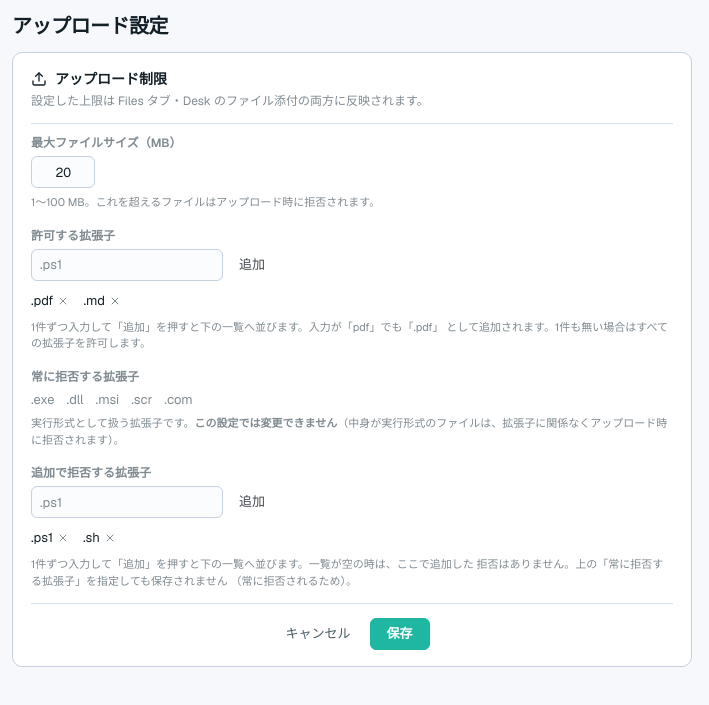
Test: フォーム操作（v2-203: 1件ずつの追加・解除） › 重複は追加されず、理由を画面に出す（黙って消えない）
The width and height of the screenshot is (709, 705).
Type ".pdf" into the field labelled "許可する拡張子" at (127, 264), box [31,248,223,280]
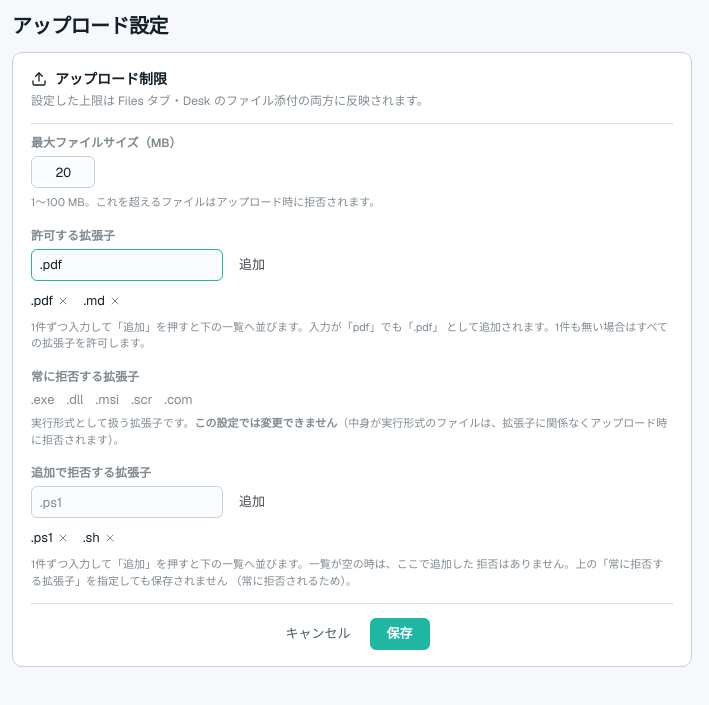
Click the button with aria-label "許可する拡張子を追加" at (252, 264), box [229,248,275,280]
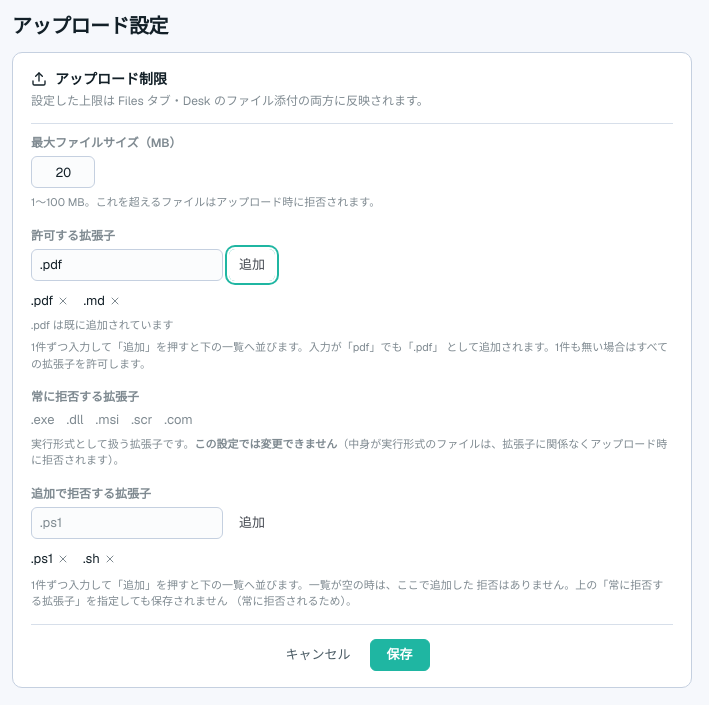
Expected: the message reads ".pdf は既に追加されています", [31,318,174,332]
